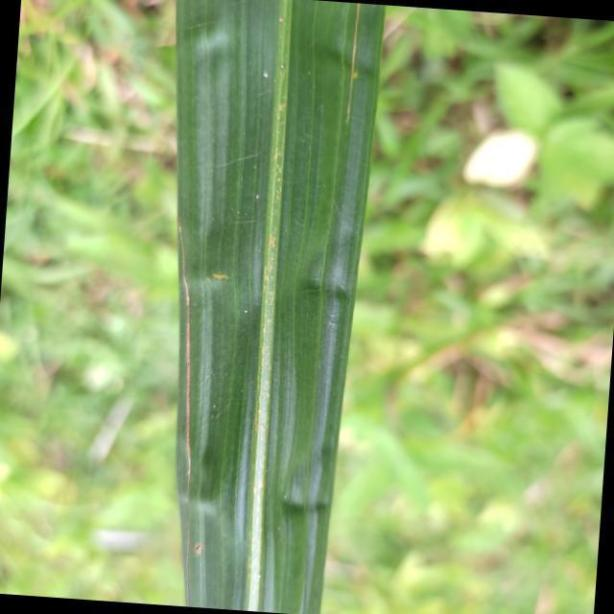Boron: (173, 0, 387, 608)
